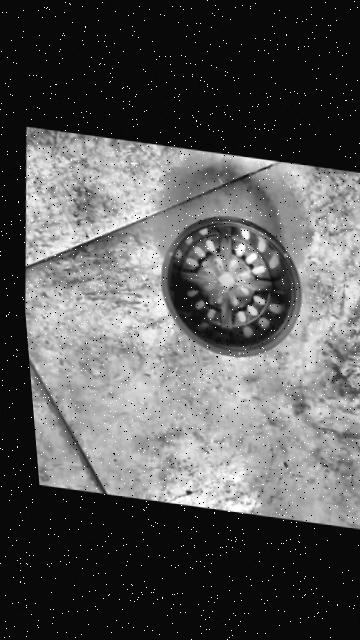pot: (151, 206, 314, 367)
